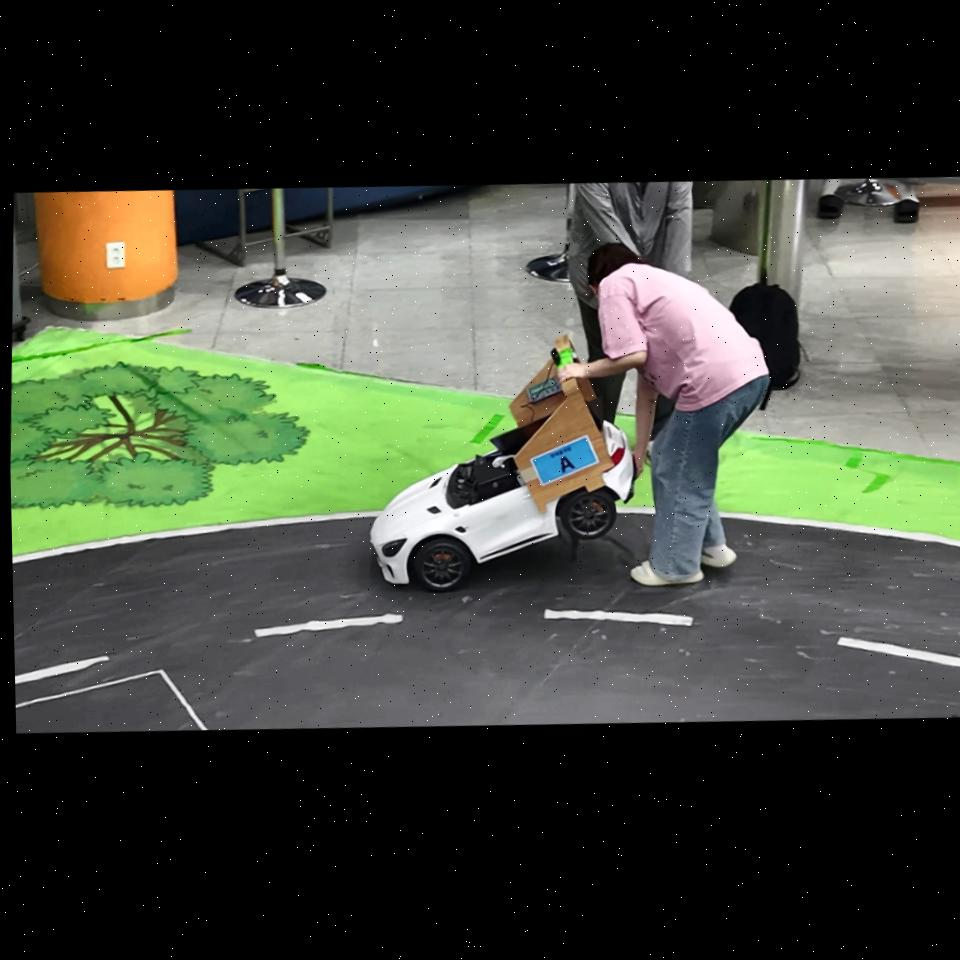broken_line: (837, 637, 960, 667), (255, 613, 403, 636), (15, 656, 109, 685), (544, 609, 693, 626)
